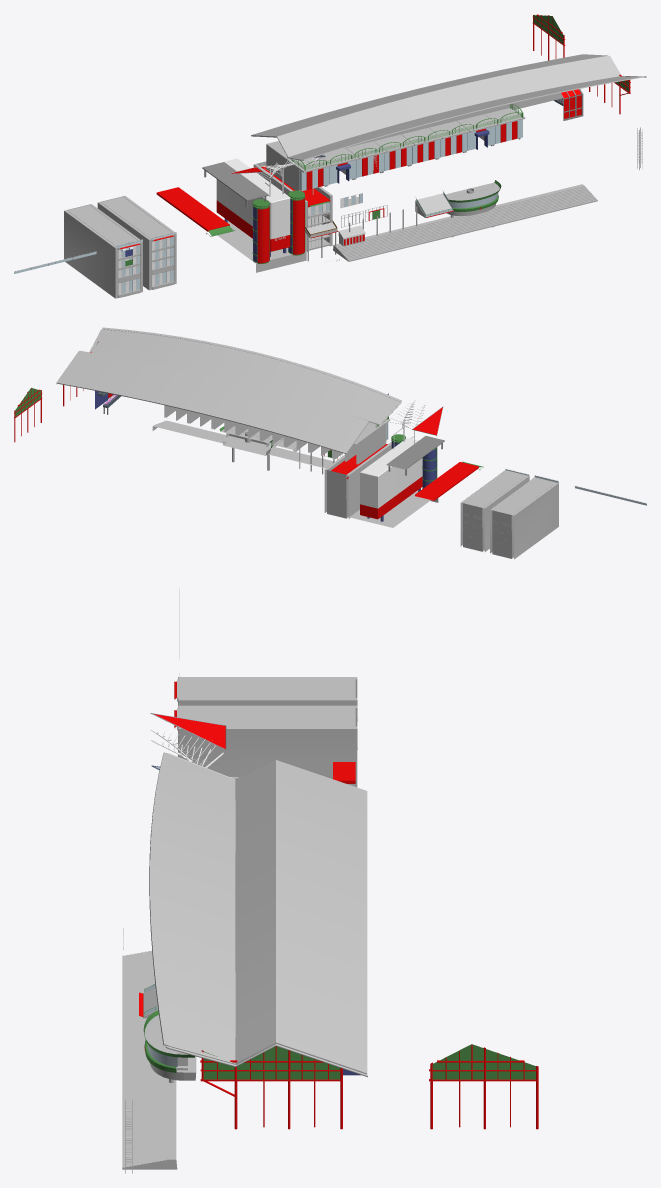
The model's file is ascot_M.FBX.
3 renders of one model, top to bottom at view 1: azimuth 30°, elevation 25°; view 2: azimuth 150°, elevation 25°; view 3: azimuth 270°, elevation 25°, orthographic. The views are drawn at different scales.
Visible parts, largest first — view 1: Plane1505, top_wall, MAIN_WALL001, StraightStair007, MAIN_WALL, Cylinder029, Box011, sub_top_wall, 1_shade_02, Object013, ladder_003, Box003 (+3 smaller); view 2: Plane1505, MAIN_WALL001, Box011, MAIN_WALL, top_wall, Plane730, Cylinder029, StraightStair007, sub_top_wall, 1_shade_02, Cylinder006, ladder_003 (+3 smaller); view 3: Plane1505, MAIN_WALL, StraightStair007, MAIN_WALL001, ladder_02, ladder_003, 1_shade_02, Object013, 0_Roof_tri.
Boxes of the visible parts, x1,y1,x2,y2 form: Plane1505: (251,54,646,160); top_wall: (266,104,525,191); MAIN_WALL001: (64,204,142,298); StraightStair007: (333,184,597,261); MAIN_WALL: (97,196,176,290); Cylinder029: (217,190,306,272); Box011: (216,158,290,256); sub_top_wall: (156,187,235,236); 1_shade_02: (202,162,268,207); Object013: (445,180,501,211); ladder_003: (532,14,565,60); Box003: (415,191,453,217); Plane1505: (56,327,401,454); MAIN_WALL001: (490,475,558,559); Box011: (360,438,422,521); MAIN_WALL: (460,469,529,551); top_wall: (164,405,390,464); Plane730: (327,442,391,518); Cylinder029: (349,434,438,527); StraightStair007: (152,420,333,468); sub_top_wall: (415,461,483,500); 1_shade_02: (386,436,444,475); Cylinder006: (222,431,271,470); ladder_003: (14,388,42,442); Plane1505: (149,752,367,1077); MAIN_WALL: (174,703,357,787); StraightStair007: (122,950,177,1169); MAIN_WALL001: (174,673,357,721); ladder_02: (200,1046,342,1129); ladder_003: (429,1044,538,1129); 1_shade_02: (186,759,332,779); Object013: (143,1010,194,1072); 0_Roof_tri: (150,713,226,750).
Bounding box in the file's own units: 511643 × 97852 × 168081.
